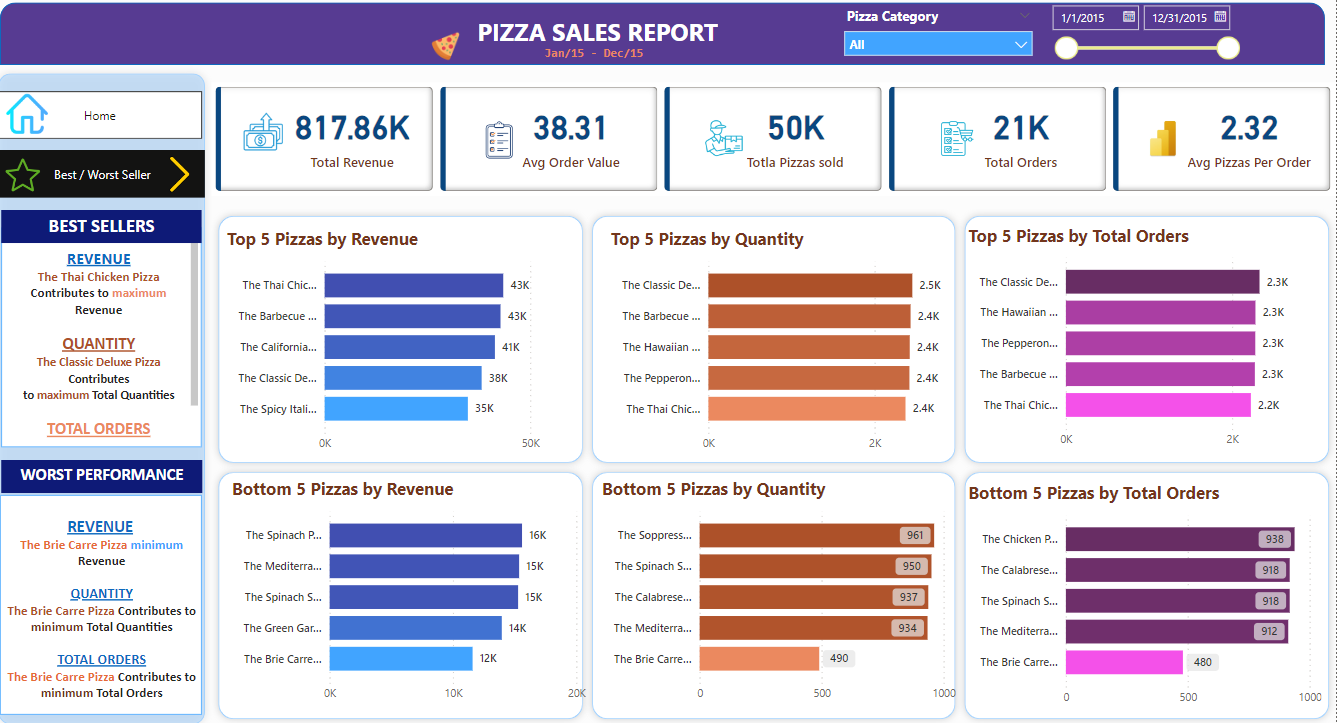

The page's visual inventory and layout, read from the dashboard file:
{"tool":"powerbi","page":{"name":"Best / Worst Seller","canvas":[1500,820],"ordinal":1},"visuals":[{"type":"cardVisual","fields":{"Data":["public pizzas.Total Revenue","public pizzas.Avg Order Value","public pizzas.Totla Pizzas sold","public pizzas.Total Orders","public pizzas.Avg Pizzas Per Order"]},"box":[246.5,97.5,1253.4,126.7],"z":0},{"type":"shape","box":[11.1,8.4,1476.2,69.6],"z":1000},{"type":"textbox","box":[530.6,18.1,292.5,50.1],"z":2000},{"type":"textbox","box":[612.8,50.1,147.6,37.6],"z":3000},{"type":"image","box":[447.8,36.2,118.8,42],"z":4000},{"type":"shape","box":[1.6,78.8,246,741.3],"z":5000},{"type":"textbox","box":[12.9,258.9,223.5,244.4],"z":6000},{"type":"textbox","box":[11.3,556.4,225.1,244.4],"z":7000},{"type":"textbox","box":[12.9,239.6,223.5,37],"z":8000},{"type":"textbox","box":[12.9,518.6,224.3,37.1],"z":9000},{"type":"slicer","fields":{"Values":["public pizzas.pizza_category"]},"box":[941.4,8.4,229.8,69.6],"z":10000},{"type":"slicer","fields":{"Values":["public pizzas.order_date"]},"box":[1171.2,1.4,229.8,76.6],"z":11000},{"type":"shape","box":[1077.9,238.1,422,291.1],"z":12000},{"type":"shape","box":[662.9,238.1,420.6,291.1],"z":13000},{"type":"shape","box":[246.5,238.1,422,291.1],"z":14000},{"type":"shape","box":[246.5,523.6,422,291.1],"z":15000},{"type":"shape","box":[662.9,523.6,420.6,291.1],"z":16000},{"type":"shape","box":[1077.9,523.6,422,291.1],"z":17000},{"type":"barChart","title":"Top 5 Pizzas by Revenue","fields":{"Category":["public pizzas.pizza_name"],"Y":["public pizzas.Total Revenue"]},"box":[259,259,403.9,259],"z":18000},{"type":"barChart","title":"Bottom 5 Pizzas by Revenue","fields":{"Category":["public pizzas.pizza_name"],"Y":["public pizzas.Total Revenue"]},"box":[264.6,537.6,403.9,259],"z":19000},{"type":"barChart","title":"Top 5 Pizzas by Quantity","fields":{"Category":["public pizzas.pizza_name"],"Y":["public pizzas.Totla Pizzas sold"]},"box":[686.6,259,403.9,259],"z":20000},{"type":"barChart","title":"Bottom 5 Pizzas by Quantity","fields":{"Category":["public pizzas.pizza_name"],"Y":["public pizzas.Totla Pizzas sold"]},"box":[676.8,537.6,403.9,259],"z":21000},{"type":"barChart","title":"Top 5 Pizzas by Total Orders","fields":{"Category":["public pizzas.pizza_name"],"Y":["public pizzas.Total Orders"]},"box":[1084.9,254.9,403.9,259],"z":22000},{"type":"barChart","title":"Bottom 5 Pizzas by Total Orders","fields":{"Category":["public pizzas.pizza_name"],"Y":["public pizzas.Total Orders"]},"box":[1085.4,541.9,403.6,258.9],"z":23000},{"type":"pageNavigator","box":[11.3,172.1,228.3,53.1],"z":24000},{"type":"pageNavigator","box":[8,107.7,228.3,53.1],"z":25000},{"type":"image","box":[186.5,173.7,49.9,51.5],"z":26000},{"type":"image","box":[12.9,104.5,57.9,56.3],"z":27000},{"type":"image","box":[12.9,173.7,48.2,53.1],"z":28000}]}

Visuals, with their boxes in screenshot pixels (x1, y1, x2, y2), scaled from the page's 1500x820 canvas onto the 1337x723 screenshot:
cardVisual - public pizzas.Total Revenue x public pizzas.Avg Order Value: Rect(220, 86, 1336, 198)
shape: Rect(10, 7, 1326, 69)
textbox: Rect(473, 16, 734, 60)
textbox: Rect(546, 44, 678, 77)
image: Rect(399, 32, 505, 69)
shape: Rect(1, 69, 221, 722)
textbox: Rect(11, 228, 211, 444)
textbox: Rect(10, 491, 211, 706)
textbox: Rect(11, 211, 211, 244)
textbox: Rect(11, 457, 211, 490)
slicer - public pizzas.pizza_category: Rect(839, 7, 1044, 69)
slicer - public pizzas.order_date: Rect(1044, 1, 1249, 69)
shape: Rect(961, 210, 1336, 467)
shape: Rect(591, 210, 966, 467)
shape: Rect(220, 210, 596, 467)
shape: Rect(220, 462, 596, 718)
shape: Rect(591, 462, 966, 718)
shape: Rect(961, 462, 1336, 718)
"Top 5 Pizzas by Revenue" barChart: Rect(231, 228, 591, 457)
"Bottom 5 Pizzas by Revenue" barChart: Rect(236, 474, 596, 702)
"Top 5 Pizzas by Quantity" barChart: Rect(612, 228, 972, 457)
"Bottom 5 Pizzas by Quantity" barChart: Rect(603, 474, 963, 702)
"Top 5 Pizzas by Total Orders" barChart: Rect(967, 225, 1327, 453)
"Bottom 5 Pizzas by Total Orders" barChart: Rect(967, 478, 1327, 706)
pageNavigator: Rect(10, 152, 214, 199)
pageNavigator: Rect(7, 95, 211, 142)
image: Rect(166, 153, 211, 199)
image: Rect(11, 92, 63, 142)
image: Rect(11, 153, 54, 200)
